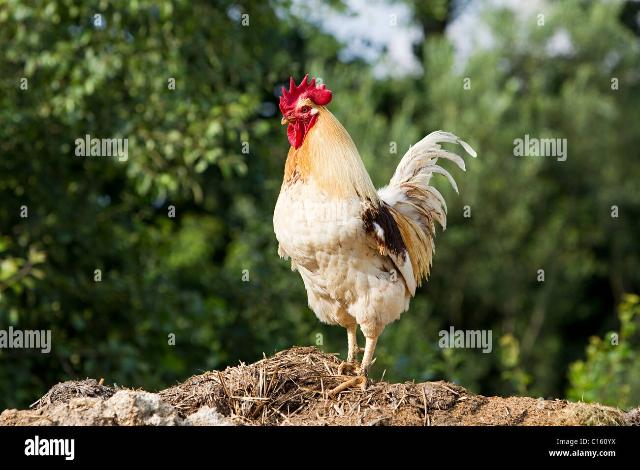Chicken: (273, 75, 477, 373)
